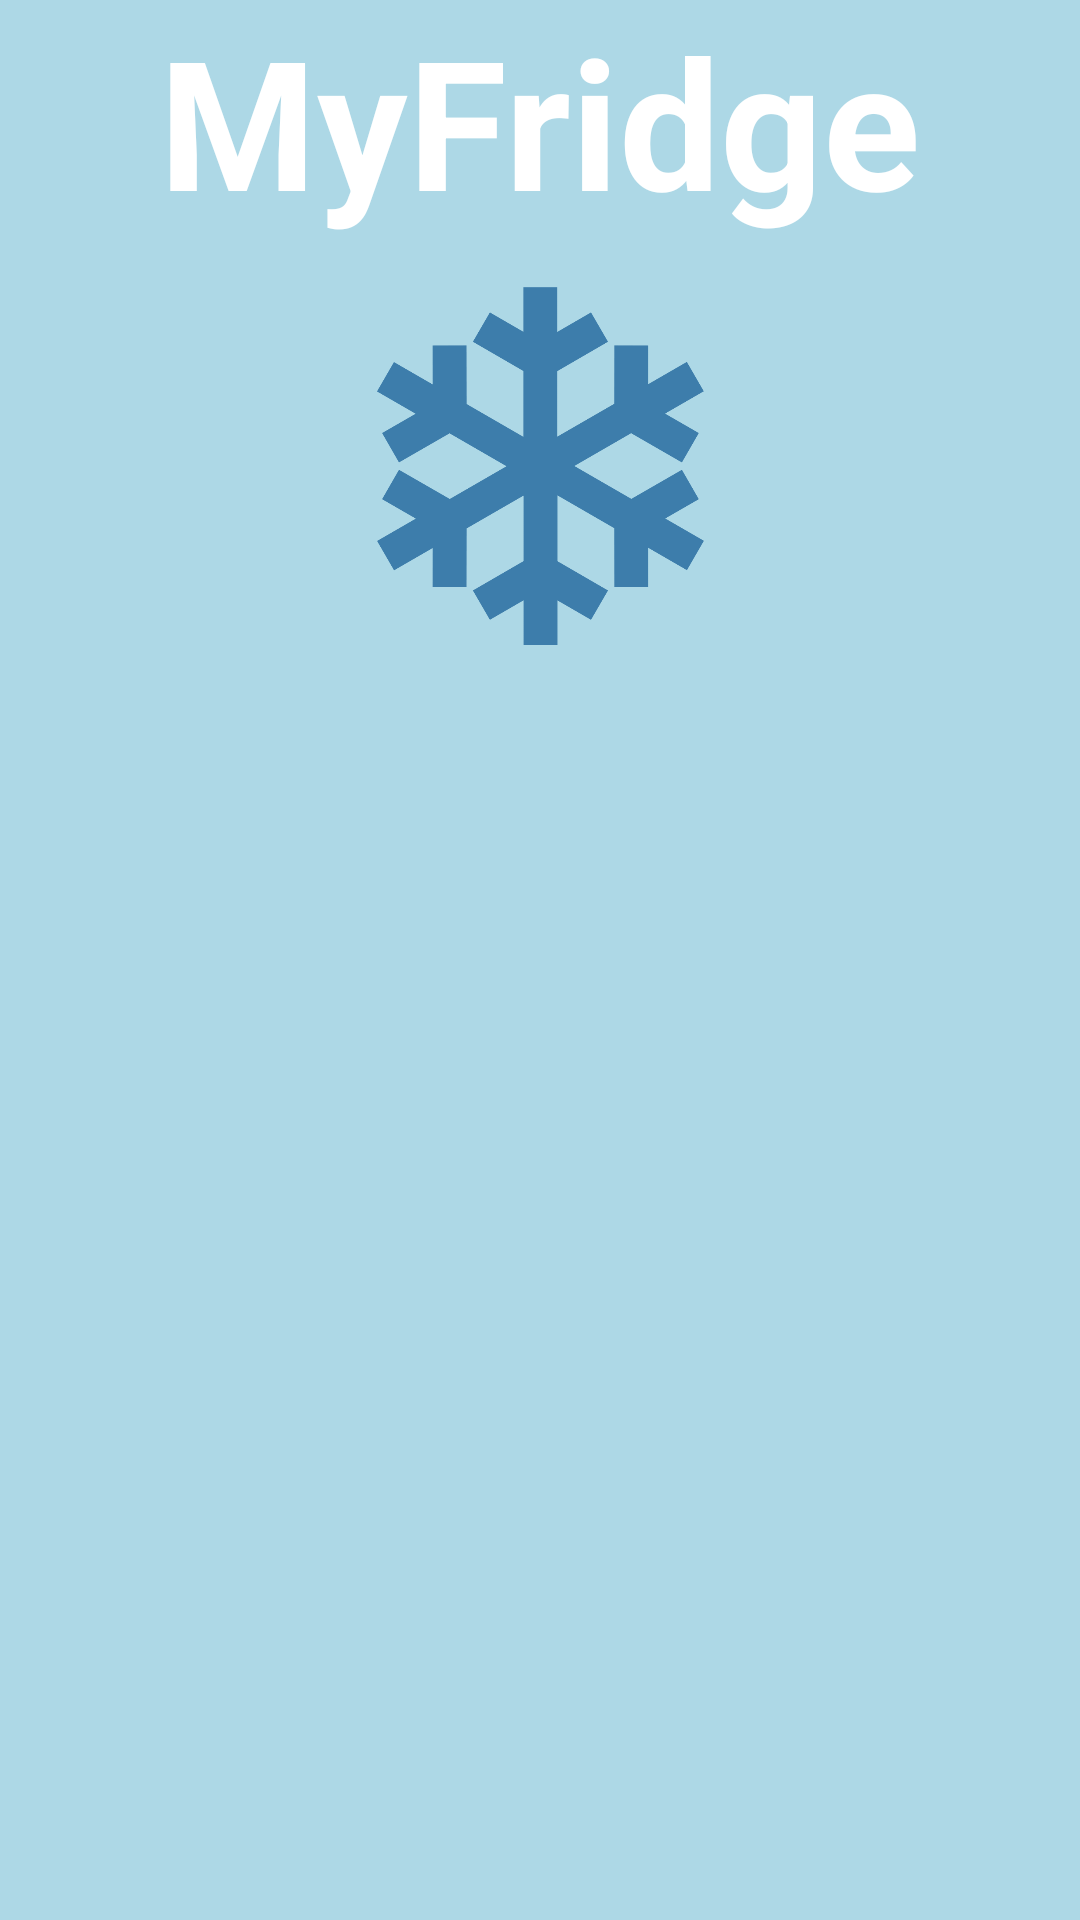

Icons on this 1080x1920 Android screen, each with the point to tap as (x,y):
snow: (540,466)
